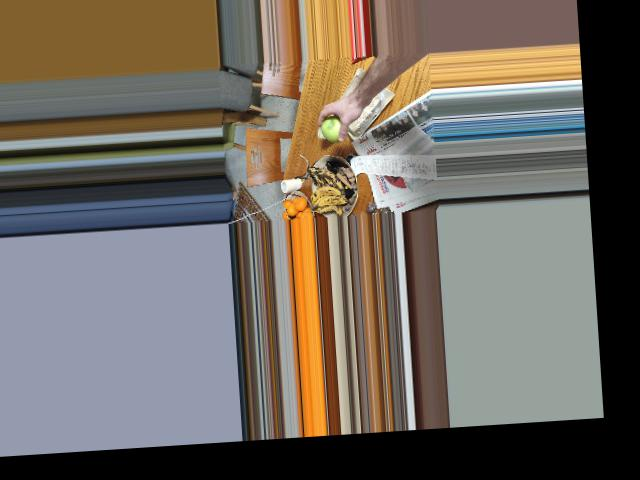apple: (316, 112, 349, 143)
